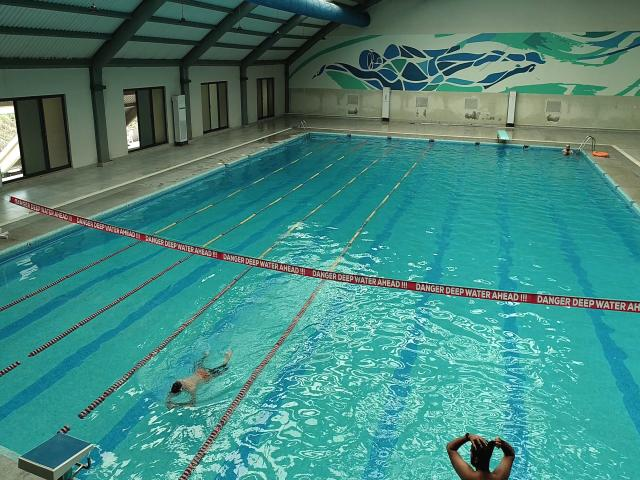swimming: (164, 340, 238, 412), (445, 426, 516, 480)
